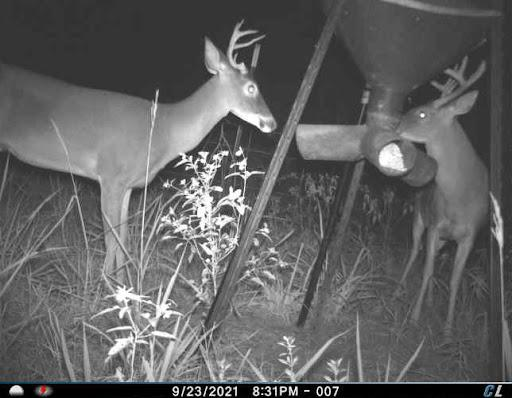Deer: (0, 16, 278, 305), (392, 50, 509, 334)
